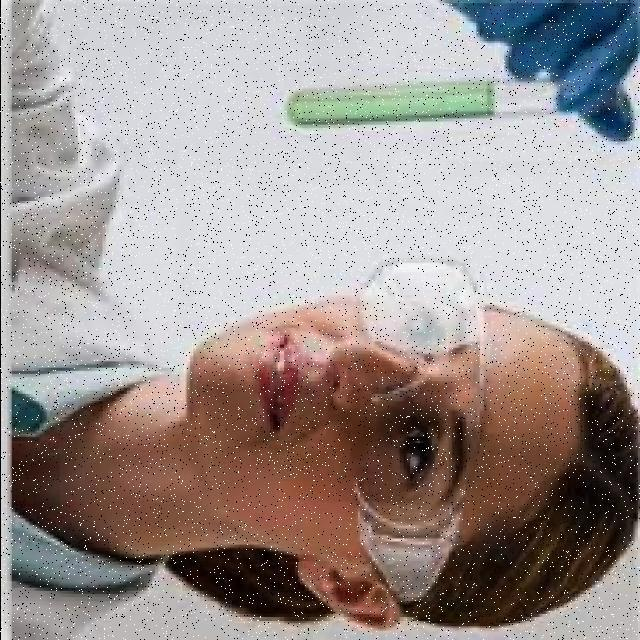Goggles: (345, 235, 489, 611)
